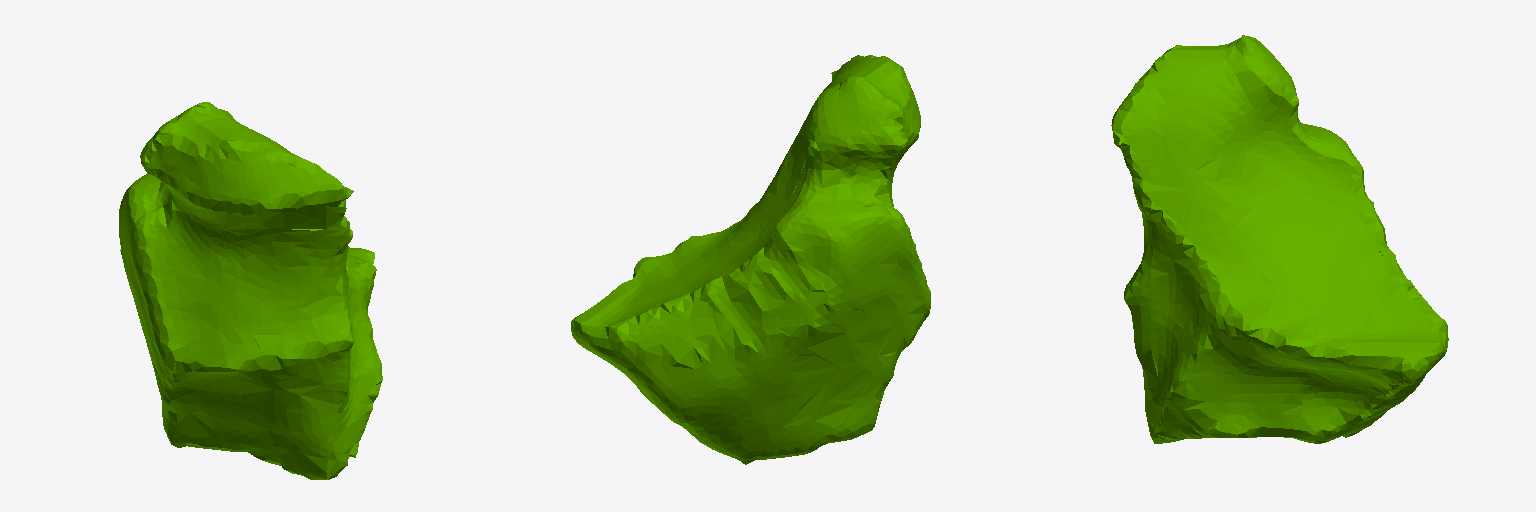
The model's file is Model_56_RH__Area_23_of_cortex__ventral_part_(A23V).obj.
3 renders of one model, left to right at view 1: azimuth 30°, elevation 25°; view 2: azimuth 150°, elevation 25°; view 3: azimuth 270°, elevation 25°, orthographic.
Size of the model in its own units: 2.77 by 3.72 by 3.09.